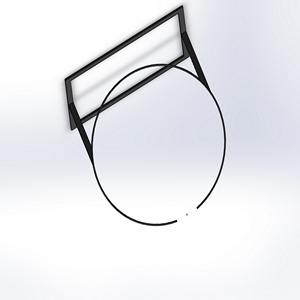circle: (63, 3, 229, 228)
